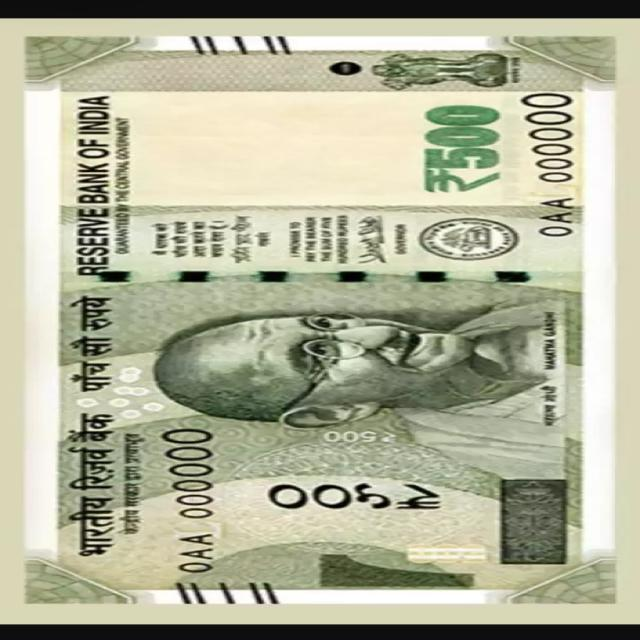500IndianRupees: (20, 35, 612, 602)
